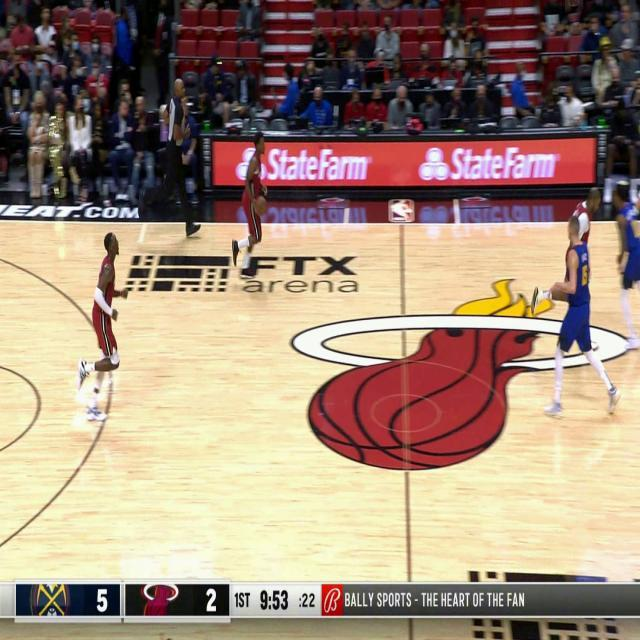rim: (255, 198, 268, 216)
